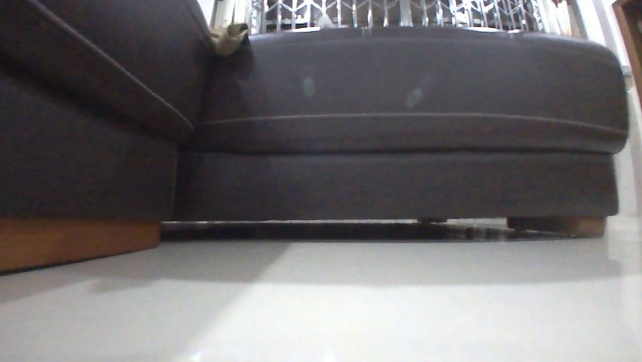sofa1: (0, 0, 636, 291)
